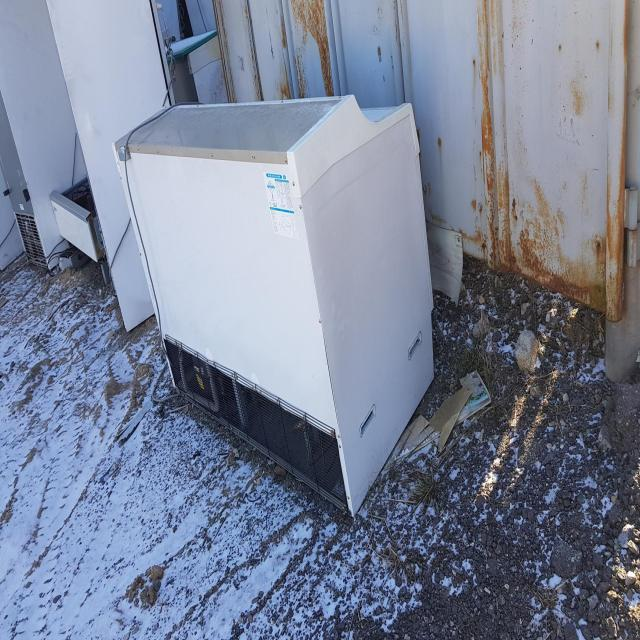refrigerator: (111, 92, 437, 520)
